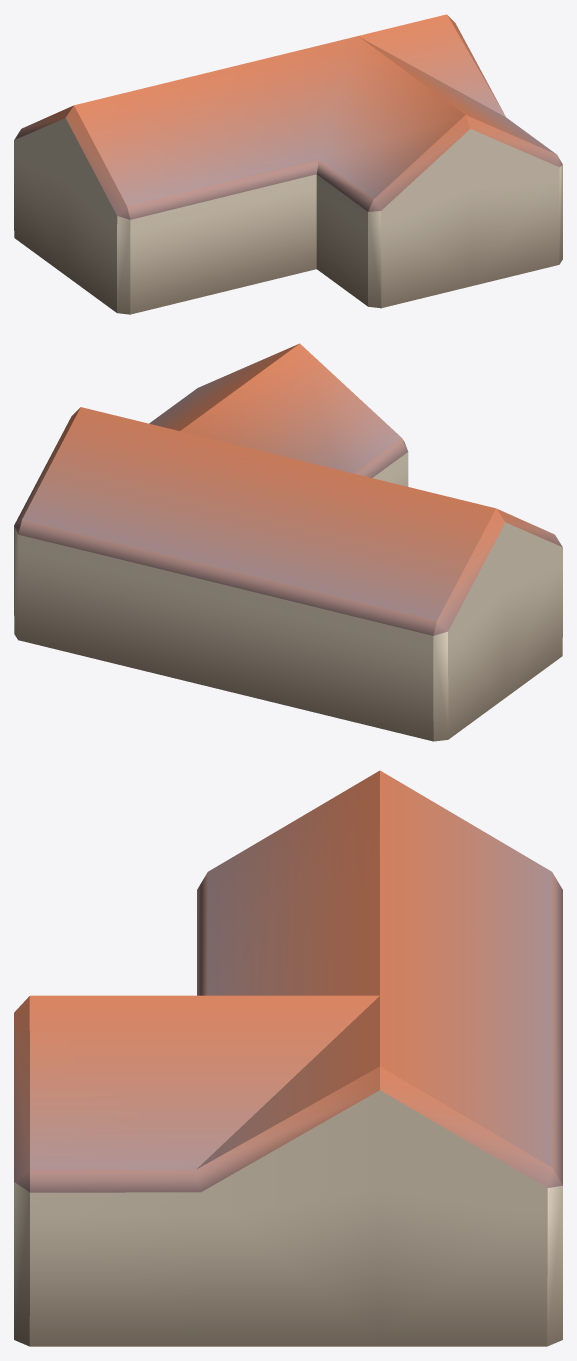
File: housel.fbx
3 views of the same model, one above another, from view 1: azimuth 30°, elevation 25°; view 2: azimuth 150°, elevation 25°; view 3: azimuth 270°, elevation 25° (orthographic). The views are drawn at different scales.
Visible parts, largest first — view 1: pasted__house8; view 2: pasted__house8; view 3: pasted__house8.
Part boxes in pixels (x1,y1,x2,y2): pasted__house8: (14, 14, 562, 314); pasted__house8: (14, 343, 562, 741); pasted__house8: (14, 770, 562, 1346).
Size of the model in its own units: 27.15 by 11.19 by 20.36.
